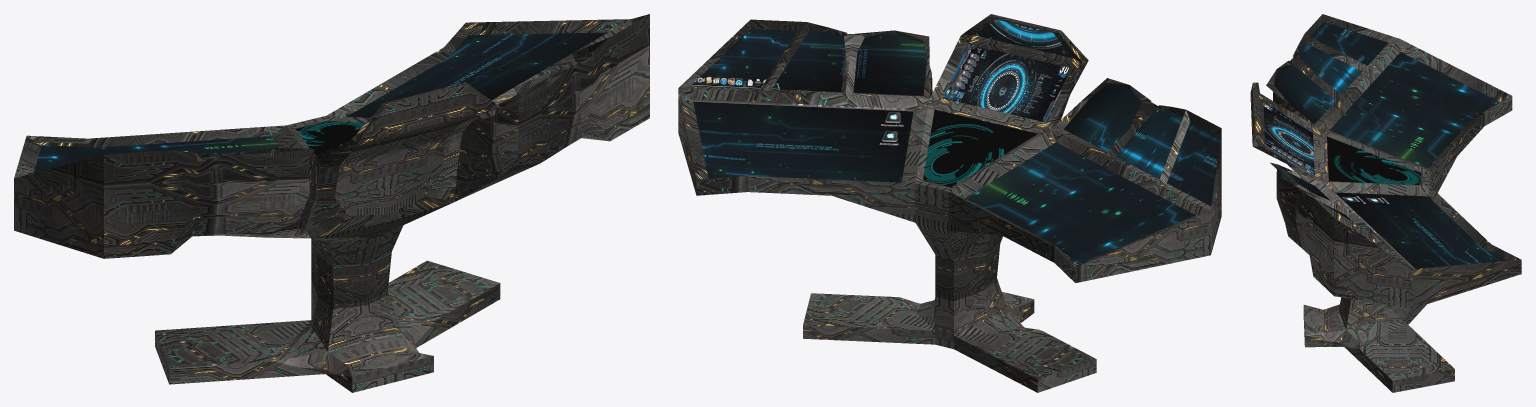
Rendered from controlpanel.glb.
3 renders of one model, left to right at view 1: azimuth 30°, elevation 25°; view 2: azimuth 150°, elevation 25°; view 3: azimuth 270°, elevation 25°, orthographic. The views are drawn at different scales.
Visible parts, largest first — view 1: MaterialFBXASC032FBXASC0352142150880, MaterialFBXASC032FBXASC0352142171025, MaterialFBXASC032FBXASC0352142148966; view 2: MaterialFBXASC032FBXASC0352142150880, MaterialFBXASC032FBXASC0352142171025, MaterialFBXASC032FBXASC0352142148579, MaterialFBXASC032FBXASC0352142148966; view 3: MaterialFBXASC032FBXASC0352142150880, MaterialFBXASC032FBXASC0352142171025, MaterialFBXASC032FBXASC0352142148966, MaterialFBXASC032FBXASC0352142148579.
Part boxes in pixels (x1,y1,x2,y2): MaterialFBXASC032FBXASC0352142150880: (14,14,649,392); MaterialFBXASC032FBXASC0352142171025: (34,32,607,172); MaterialFBXASC032FBXASC0352142148966: (296,121,365,155); MaterialFBXASC032FBXASC0352142150880: (678,14,1221,392); MaterialFBXASC032FBXASC0352142171025: (690,28,1220,264); MaterialFBXASC032FBXASC0352142148579: (942,19,1072,122); MaterialFBXASC032FBXASC0352142148966: (923,109,1037,187); MaterialFBXASC032FBXASC0352142150880: (1250,14,1521,392); MaterialFBXASC032FBXASC0352142171025: (1274,22,1507,268); MaterialFBXASC032FBXASC0352142148966: (1327,136,1420,184); MaterialFBXASC032FBXASC0352142148579: (1263,102,1314,176).
Size of the model in its own units: 34.21 by 16.27 by 17.02.
4 materials, 4 textured.
